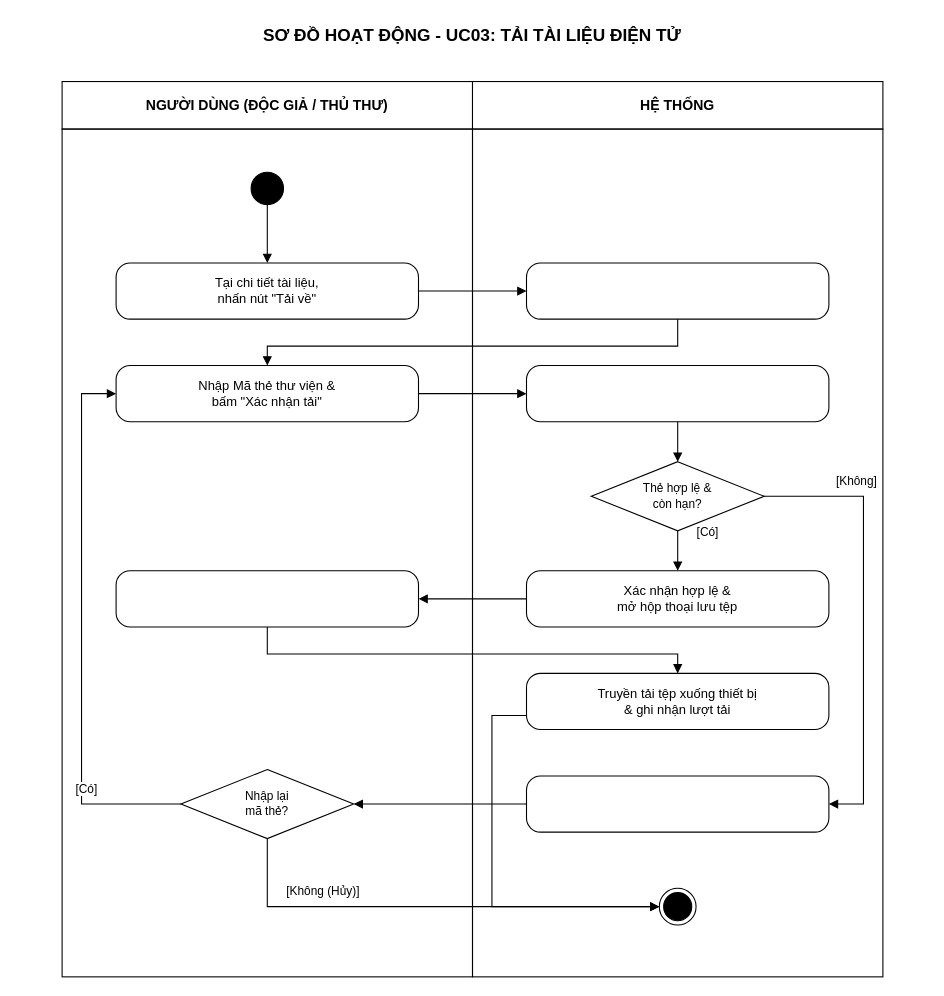
This 944x996 diagram has some shape labels left out. Here are the shapes that lost their labels. From the top down, the centre of each, then its label:
[677,290]: Hiển thị hộp thoại yêu cầu nhập Mã thẻ thư viện
[677,393]: Kiểm tra tính hợp lệ của thẻ trong CSDL
[266,598]: Chọn thư mục lưu file trên máy & bấm nút "Lưu"
[677,803]: Hiển thị thông báo lỗi: "Mã thẻ không hợp lệ/hết hạn"
